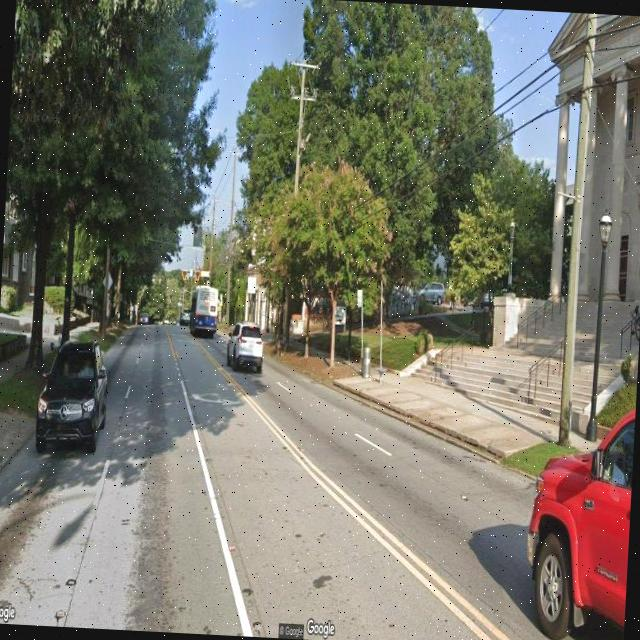seating: (376, 366, 388, 378)
trash_can: (362, 348, 372, 378)
